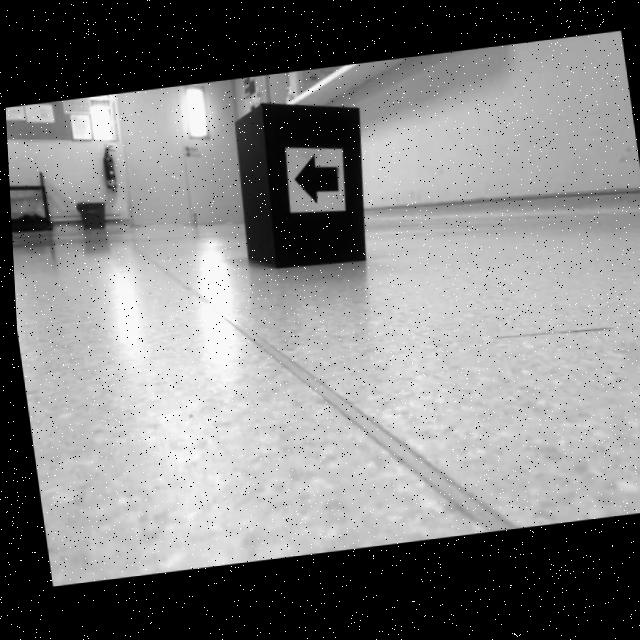LEFT: (292, 155, 338, 207)
